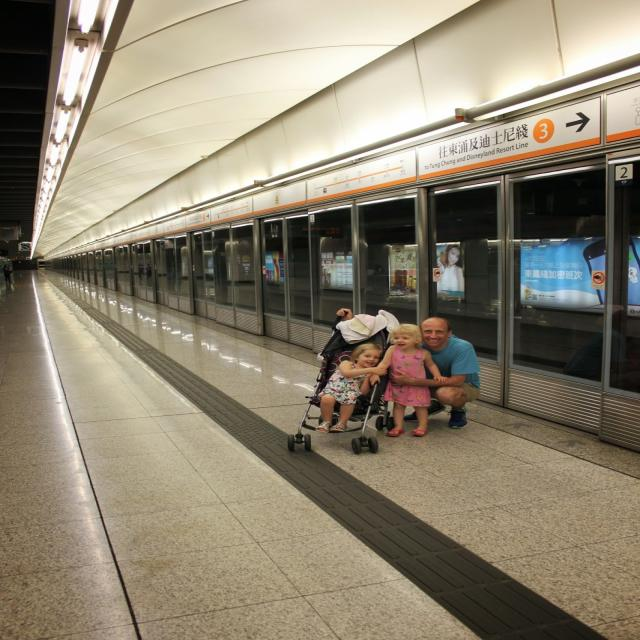body: (260, 238, 640, 304), (335, 308, 482, 429), (365, 321, 450, 438), (314, 343, 389, 434), (0, 258, 22, 290)
